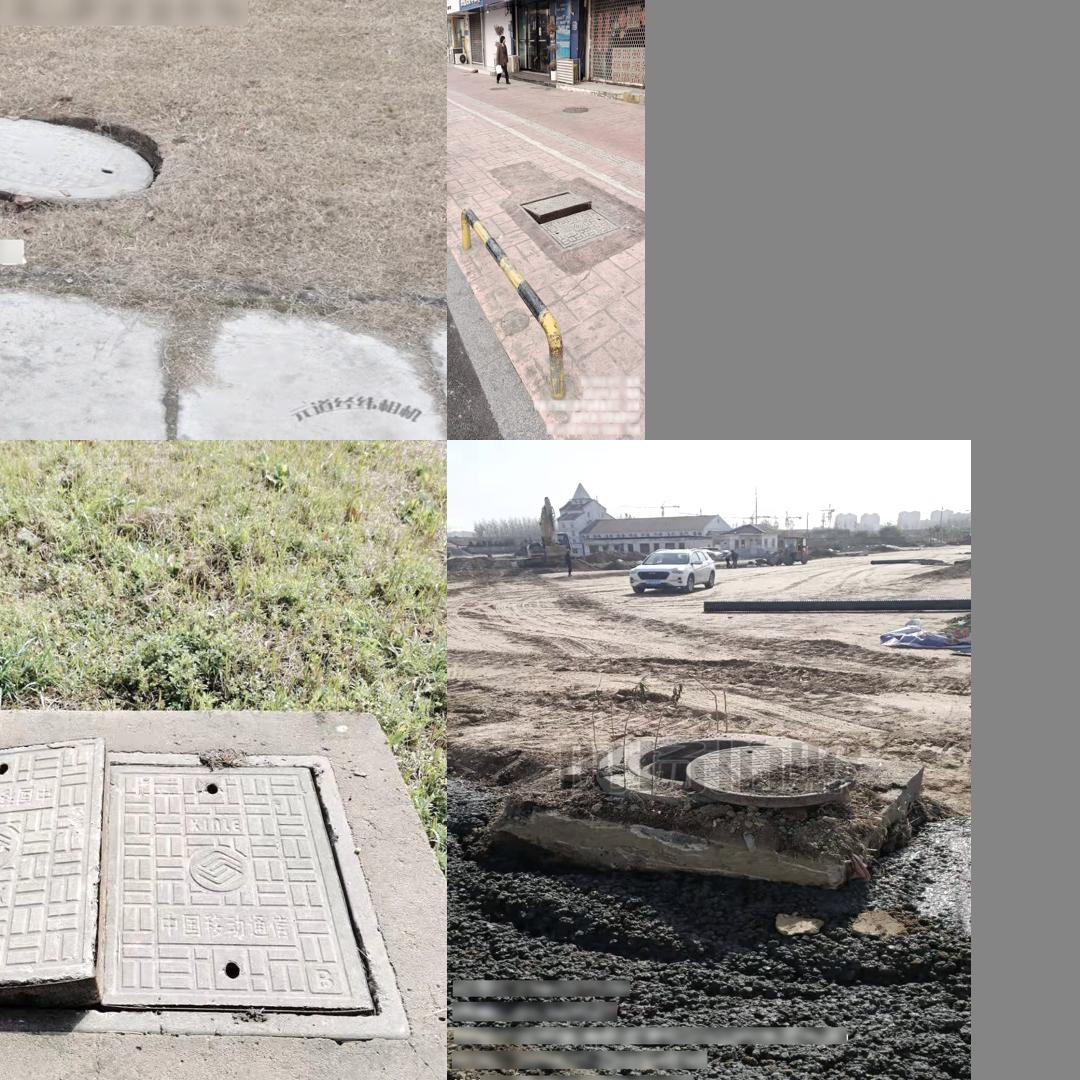uncovered: (0, 749, 415, 1045), (595, 732, 856, 808), (0, 115, 163, 202), (518, 189, 621, 254)
